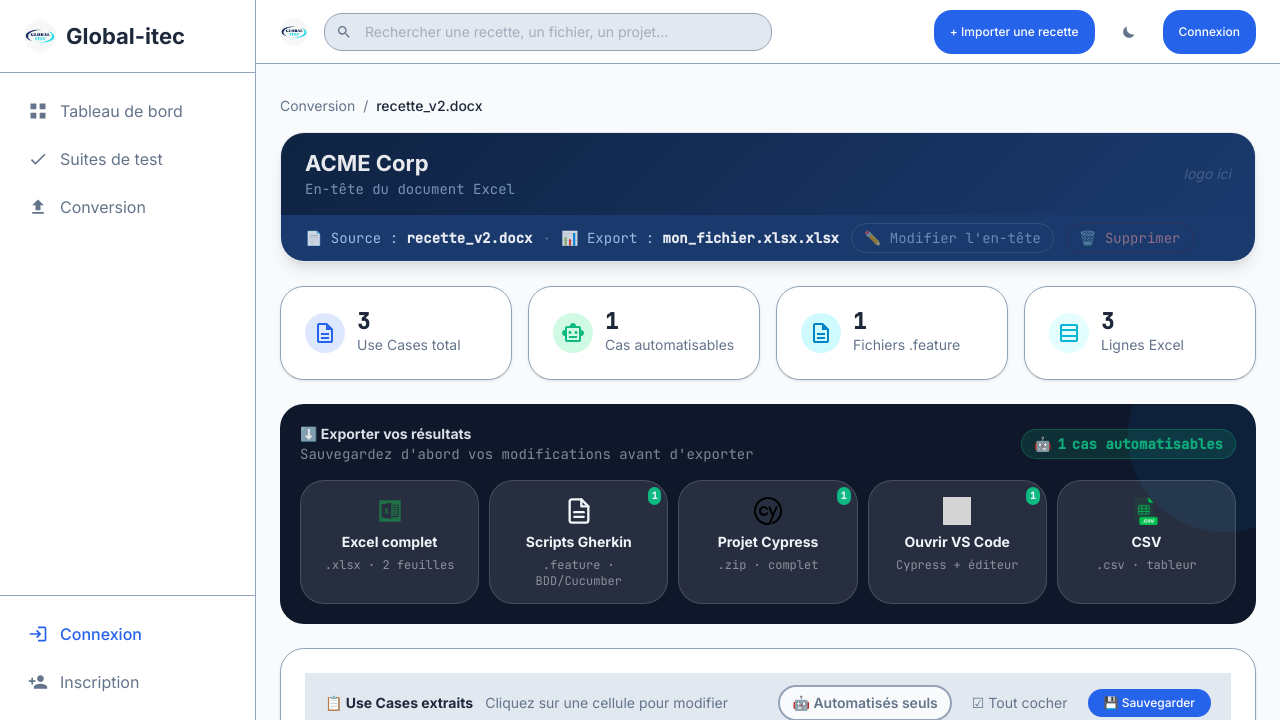
it: PreviewPage › opens header edit modal
The image size is (1280, 720).
Click the button "✏️ Modifier l'en-tête": (953,238) [851,223,1054,253]
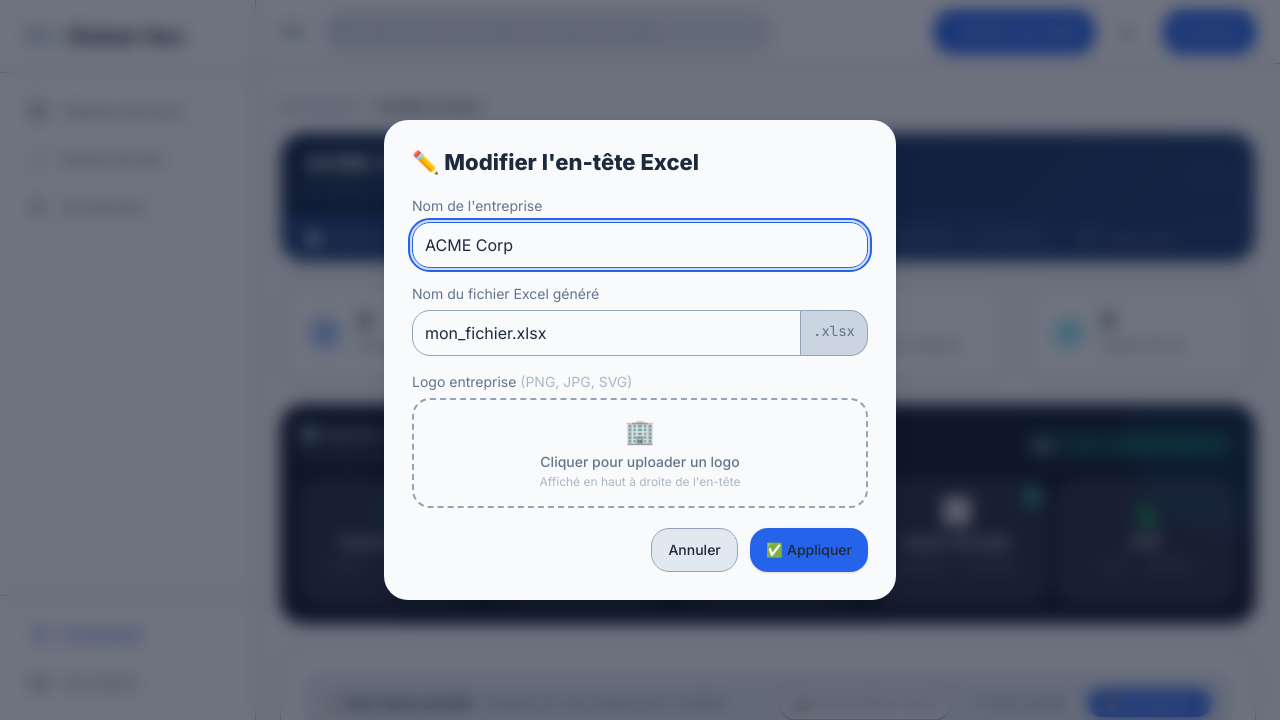
Check: the heading "✏️ Modifier l'en-tête Excel" is shown, box [412,149,699,175]
